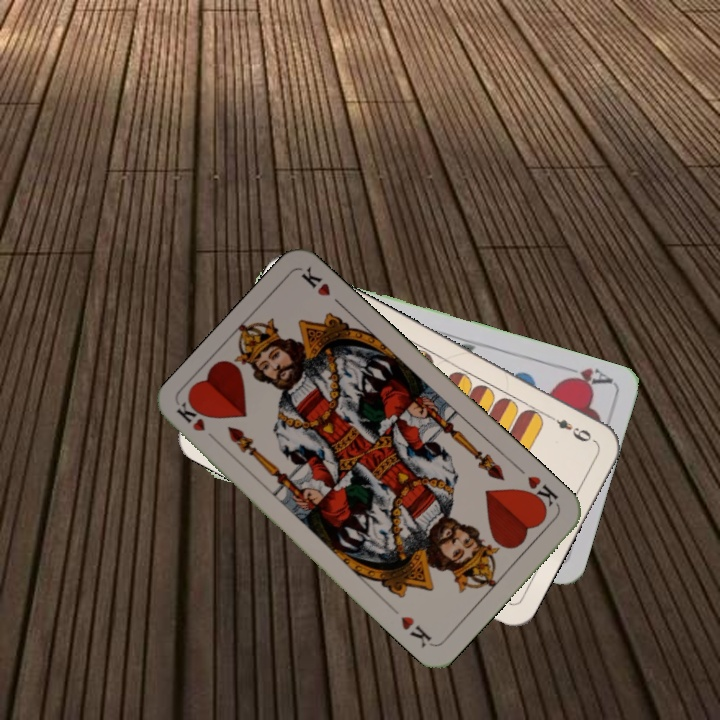E9: (543, 411, 598, 445)
HA: (556, 361, 615, 392)
HK: (172, 399, 223, 447), (519, 471, 561, 514)
